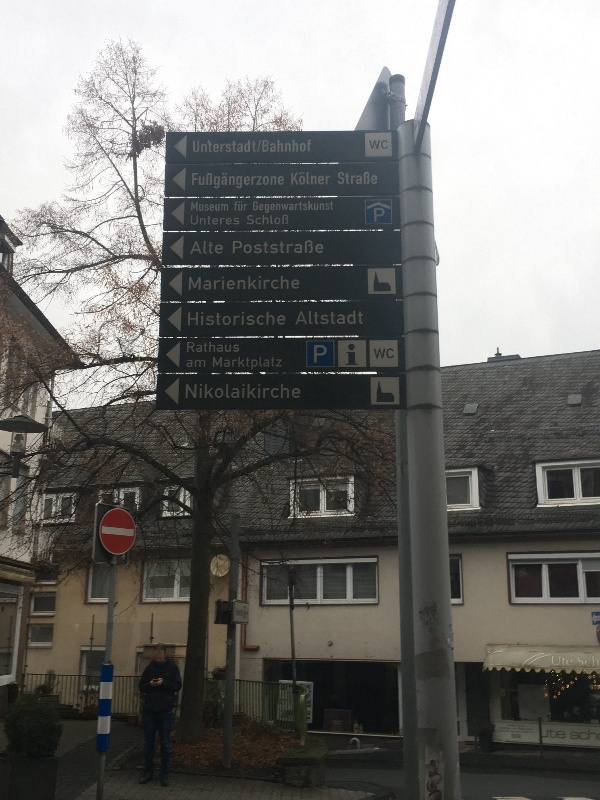text: (209, 238, 225, 257), (193, 172, 208, 192), (209, 172, 224, 192), (225, 172, 240, 192), (241, 172, 256, 192), (257, 172, 272, 192), (241, 239, 256, 259), (257, 239, 272, 259), (273, 239, 288, 259), (289, 239, 304, 259), (305, 239, 320, 259), (193, 238, 208, 257), (193, 383, 208, 402), (209, 383, 224, 402), (225, 383, 240, 402), (241, 383, 256, 402), (257, 383, 272, 402), (273, 383, 288, 402), (193, 273, 208, 291), (209, 273, 224, 291), (225, 273, 240, 291), (241, 273, 256, 291), (257, 273, 272, 291), (273, 273, 288, 291), (193, 310, 208, 328), (209, 310, 224, 328), (225, 310, 240, 328), (241, 310, 256, 328), (257, 310, 272, 328), (241, 139, 257, 155), (305, 171, 320, 188), (305, 309, 320, 326), (321, 309, 336, 326), (337, 309, 352, 326), (273, 310, 287, 328), (193, 139, 208, 155), (209, 139, 224, 155), (225, 139, 240, 155), (273, 172, 285, 192), (225, 354, 240, 370), (241, 354, 256, 370), (257, 354, 272, 370), (289, 383, 301, 402), (273, 139, 288, 154), (289, 139, 304, 154), (337, 171, 352, 186), (353, 171, 368, 186), (257, 200, 272, 215), (273, 200, 288, 215), (289, 200, 304, 215), (305, 200, 320, 215), (291, 171, 304, 188), (193, 199, 208, 213), (209, 199, 224, 213), (193, 340, 208, 354), (209, 340, 224, 354), (225, 340, 240, 354), (545, 729, 560, 743), (561, 729, 576, 743), (577, 729, 592, 743), (289, 273, 300, 291), (345, 340, 352, 368), (353, 340, 360, 368), (369, 139, 384, 152), (321, 200, 334, 215), (257, 214, 272, 227), (273, 214, 288, 227), (212, 354, 224, 370), (353, 309, 364, 326), (578, 657, 592, 670), (193, 215, 208, 227), (209, 215, 224, 227), (225, 215, 240, 227), (373, 346, 384, 362), (321, 171, 331, 188), (374, 207, 384, 224), (259, 140, 272, 153), (232, 239, 240, 259), (273, 354, 283, 370), (561, 656, 573, 669), (313, 343, 320, 365), (321, 343, 328, 365), (295, 309, 304, 326), (262, 139, 272, 154), (369, 171, 378, 186), (185, 383, 192, 402), (193, 359, 206, 369), (385, 346, 393, 362), (305, 139, 313, 154), (247, 214, 256, 227), (551, 656, 560, 669), (593, 729, 600, 743), (187, 310, 192, 328), (233, 200, 240, 212), (241, 200, 248, 212), (186, 340, 192, 354), (321, 239, 325, 259), (385, 139, 391, 152), (593, 657, 599, 670), (252, 200, 256, 215), (186, 359, 192, 369), (225, 199, 229, 213), (189, 273, 192, 291), (542, 729, 544, 743), (190, 215, 192, 227), (191, 172, 192, 192), (191, 238, 192, 257), (385, 207, 386, 224), (191, 199, 192, 213), (289, 214, 290, 227)
